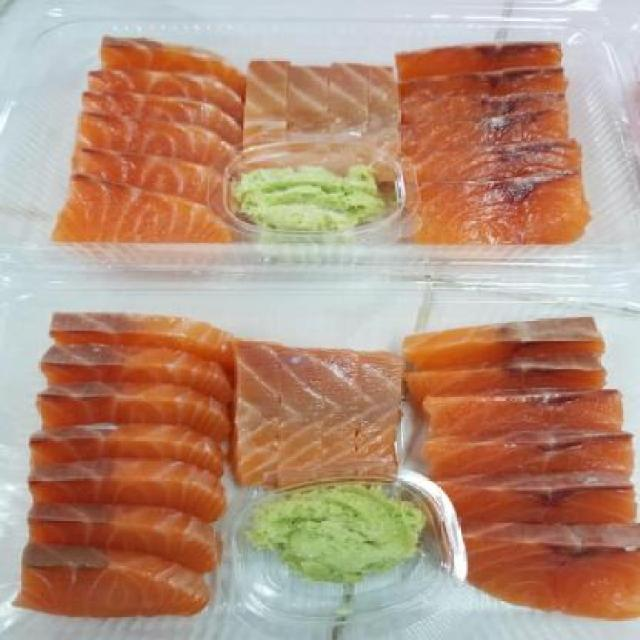salmon: (401, 306, 640, 613), (8, 297, 220, 619), (392, 35, 597, 248), (66, 29, 229, 241), (228, 332, 409, 482), (240, 51, 399, 159)
